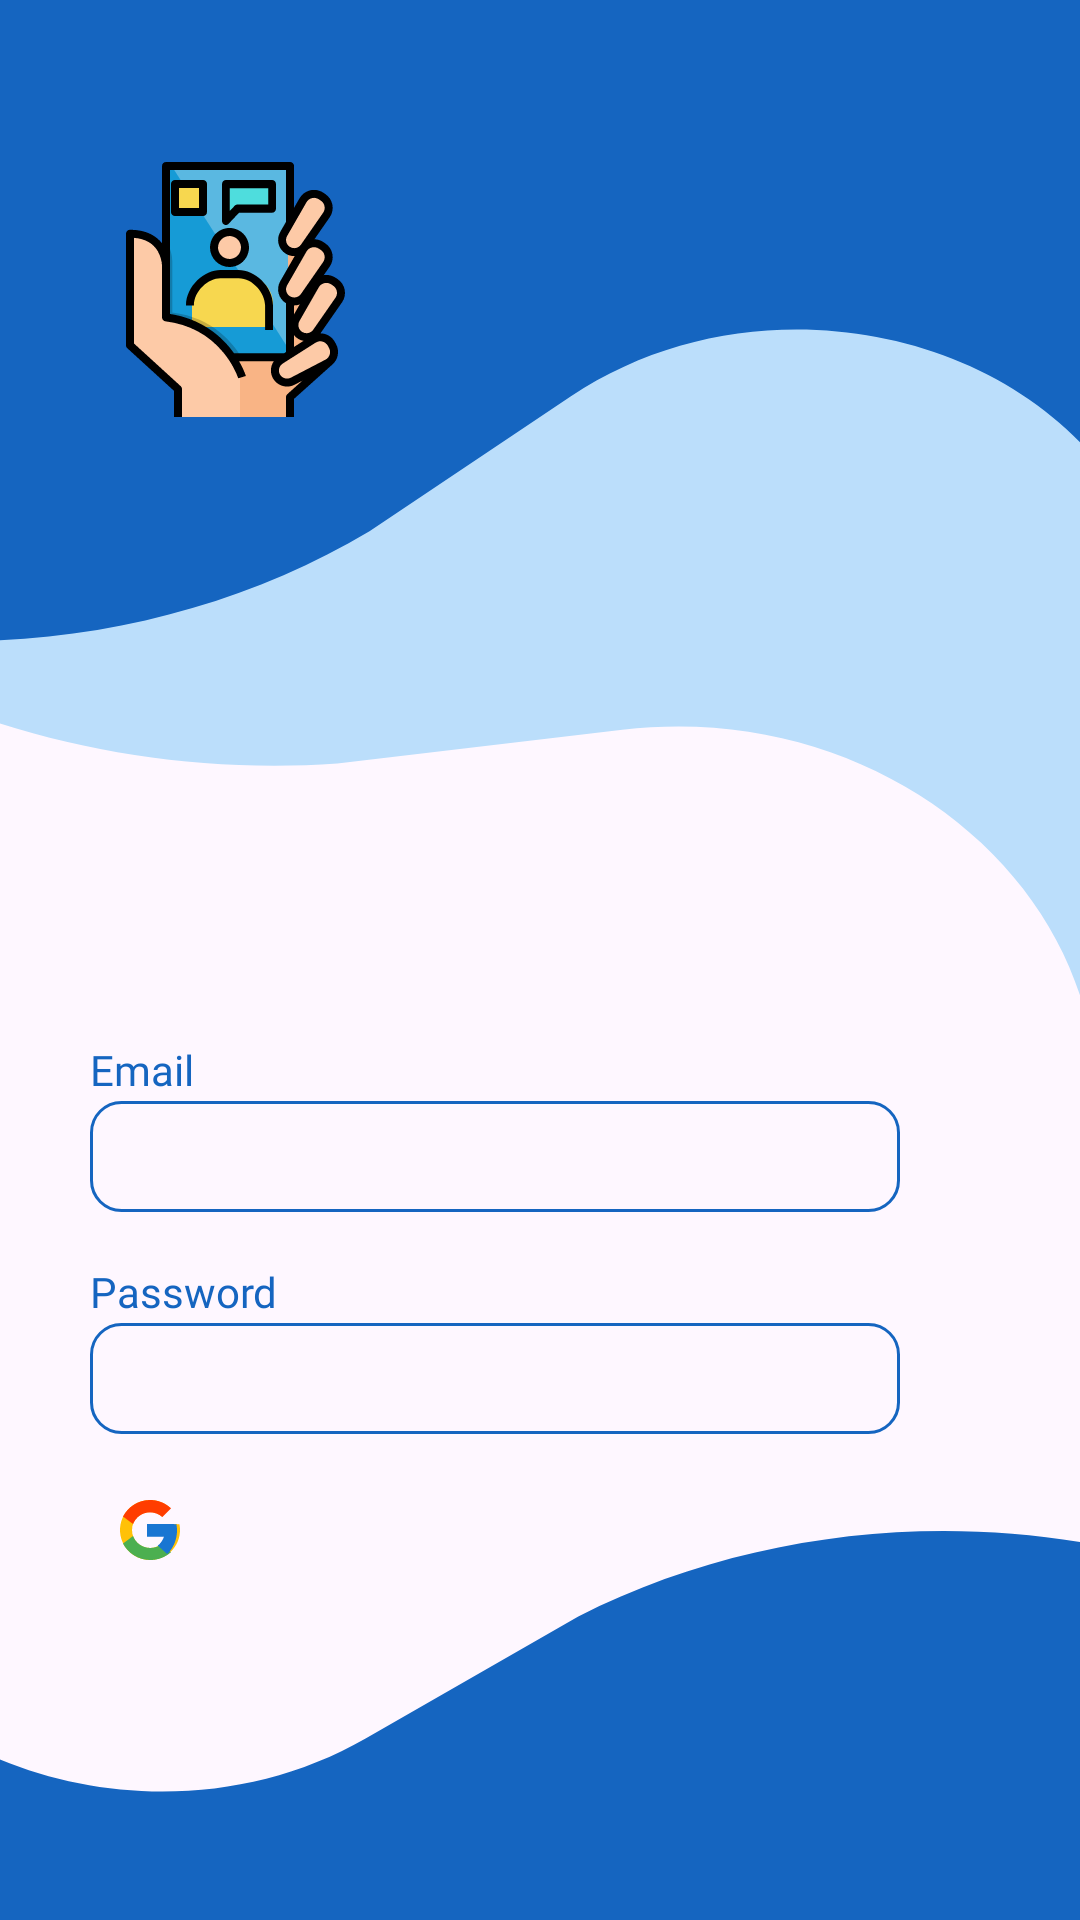

Point at icon controls on the screen. Image size 1080 × 1920, points as (x=x, y=y).
video calling: (x=235, y=289)
